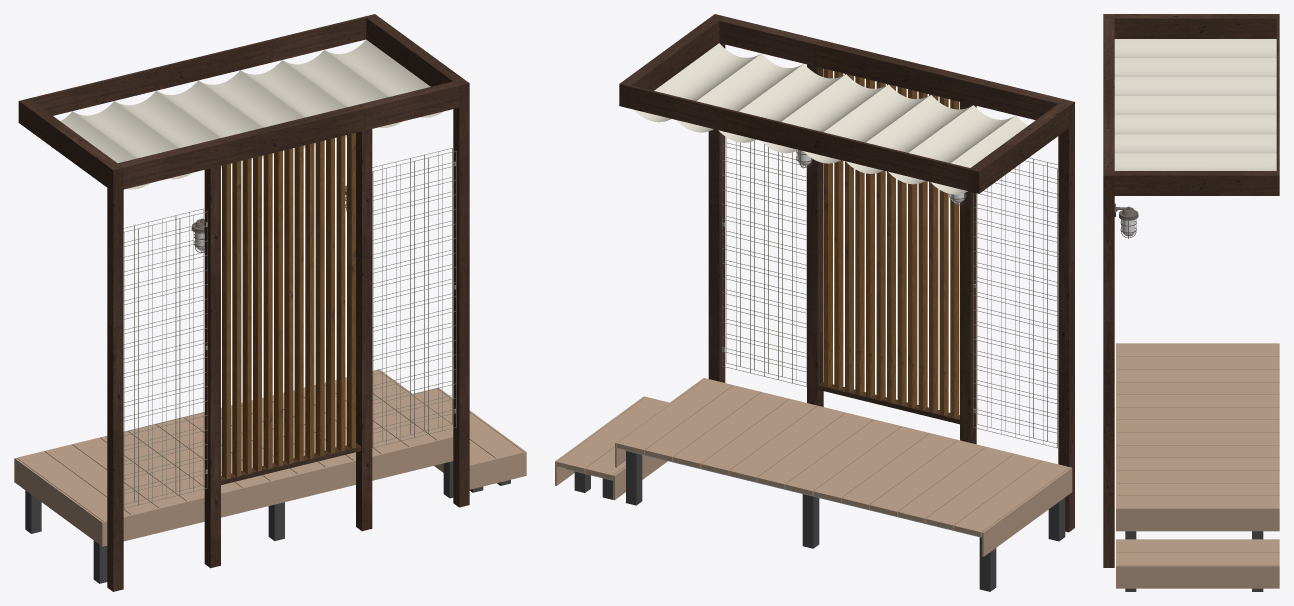
The model's file is fp8-g_w3026-d1180_darkpine.fbx.
3 views of the same model, side by side, from view 1: azimuth 30°, elevation 25°; view 2: azimuth 150°, elevation 25°; view 3: azimuth 270°, elevation 25° (orthographic). The views are drawn at different scales.
Parts seen in each view (by area): view 1: fp8-g_w3026-d1180_darkpine; view 2: fp8-g_w3026-d1180_darkpine; view 3: fp8-g_w3026-d1180_darkpine.
Boxes of the visible parts, box(x1,y1,x2,y2) form: fp8-g_w3026-d1180_darkpine: box(14, 14, 526, 591); fp8-g_w3026-d1180_darkpine: box(555, 14, 1074, 591); fp8-g_w3026-d1180_darkpine: box(1103, 14, 1279, 591).
Size of the model in its own units: 305 by 290 by 118.
13 materials, 5 textured.
